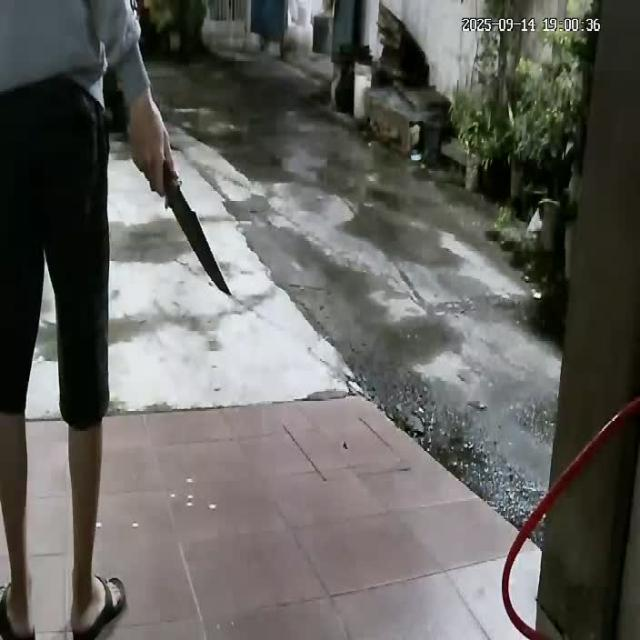senjata_tajam: (163, 165, 235, 302)
